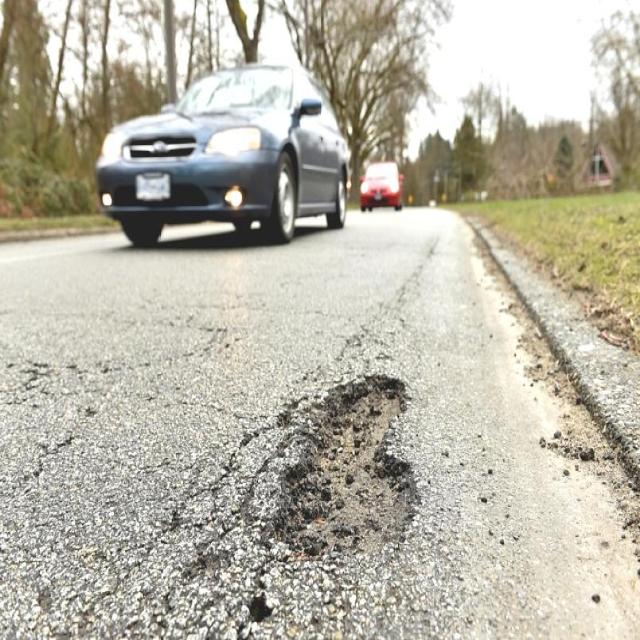pothole: (274, 372, 419, 570)
